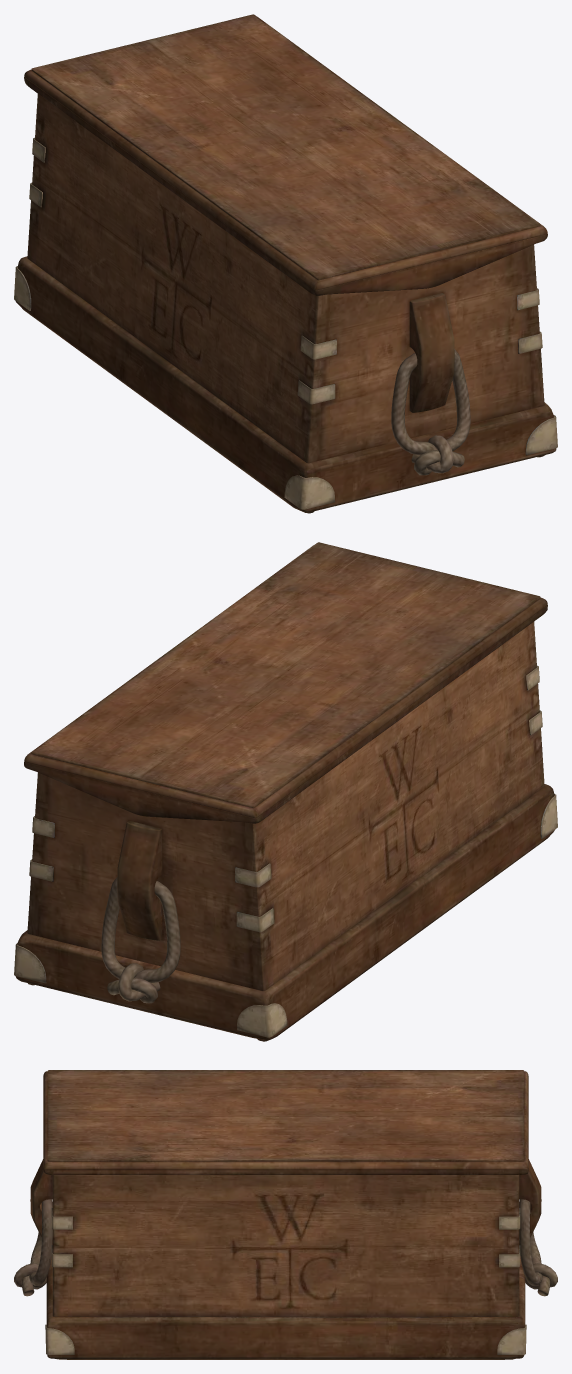
File: crate.glb
3 views of the same model, one above another, from view 1: azimuth 30°, elevation 25°; view 2: azimuth 150°, elevation 25°; view 3: azimuth 270°, elevation 25° (orthographic). The views are drawn at different scales.
Visible parts, largest first — view 1: crate; view 2: crate; view 3: crate.
Boxes of the visible parts, x1,y1,x2,y2 form: crate: (14,14,557,513); crate: (14,542,557,1041); crate: (14,1070,557,1359).
Size of the model in its own units: 0.5291 by 0.4639 by 1.17.
1 material, 1 textured.
